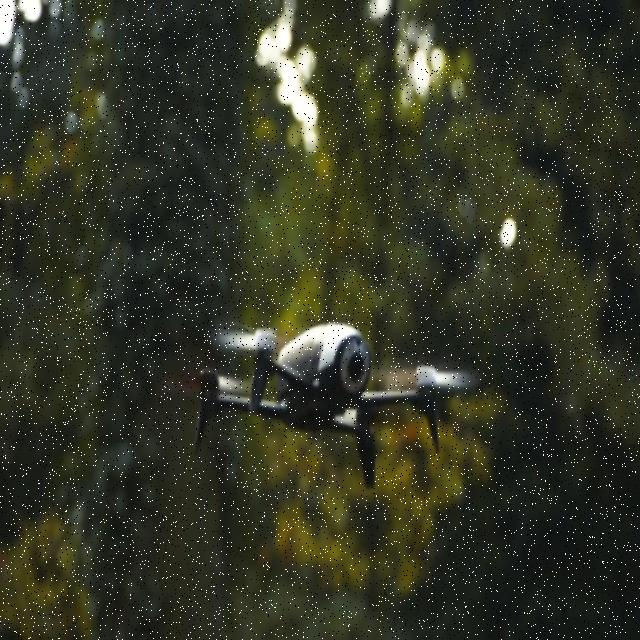UAV: (176, 324, 478, 489)
